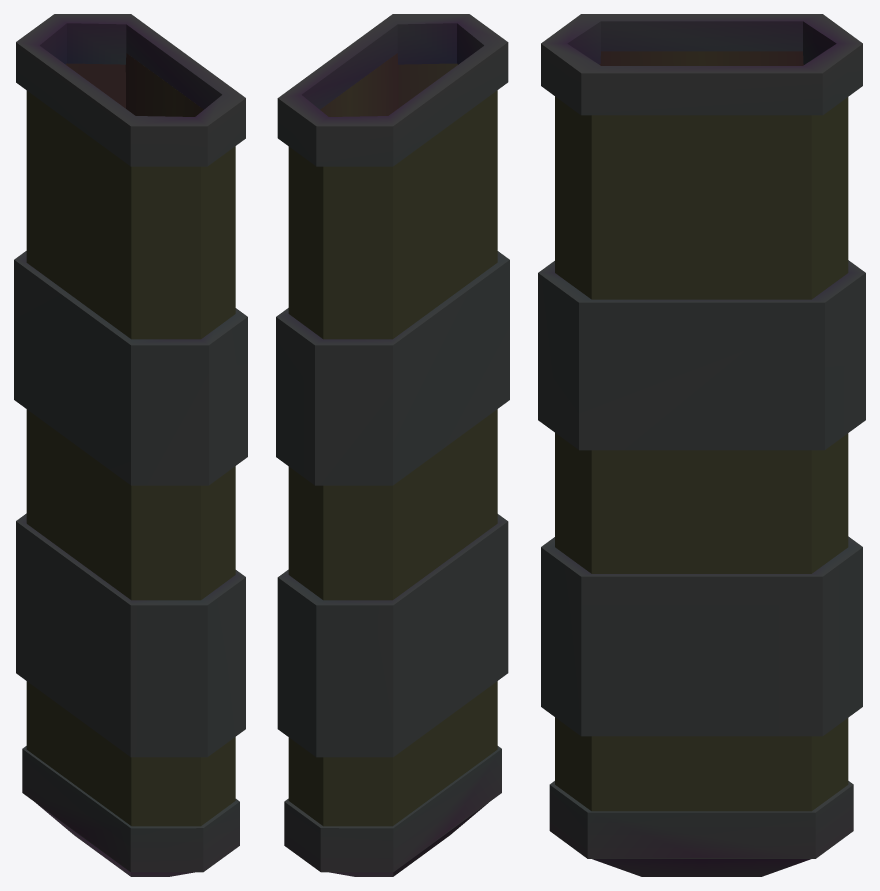
3 renders of one model, left to right at view 1: azimuth 30°, elevation 25°; view 2: azimuth 150°, elevation 25°; view 3: azimuth 270°, elevation 25°, orthographic. The views are drawn at different scales.
Visible parts, largest first — view 1: shaft, lower_band, upper_band, top_rim, foot_base; view 2: shaft, lower_band, upper_band, top_rim, foot_base; view 3: shaft, lower_band, upper_band, top_rim, foot_base.
Boxes of the visible parts, <box> form: shaft: <box>26,53,235,826</box>; lower_band: <box>16,513,245,757</box>; upper_band: <box>14,251,247,485</box>; top_rim: <box>16,14,245,166</box>; foot_base: <box>22,746,239,876</box>; shaft: <box>288,53,497,826</box>; lower_band: <box>277,514,508,757</box>; upper_band: <box>276,251,509,485</box>; top_rim: <box>277,14,508,166</box>; foot_base: <box>284,746,501,876</box>; shaft: <box>555,51,848,811</box>; lower_band: <box>541,536,862,736</box>; upper_band: <box>538,260,865,450</box>; top_rim: <box>541,14,862,115</box>; foot_base: <box>549,781,853,876</box>.
Size of the model in its own units: 0.0942 by 0.6 by 0.2177.
